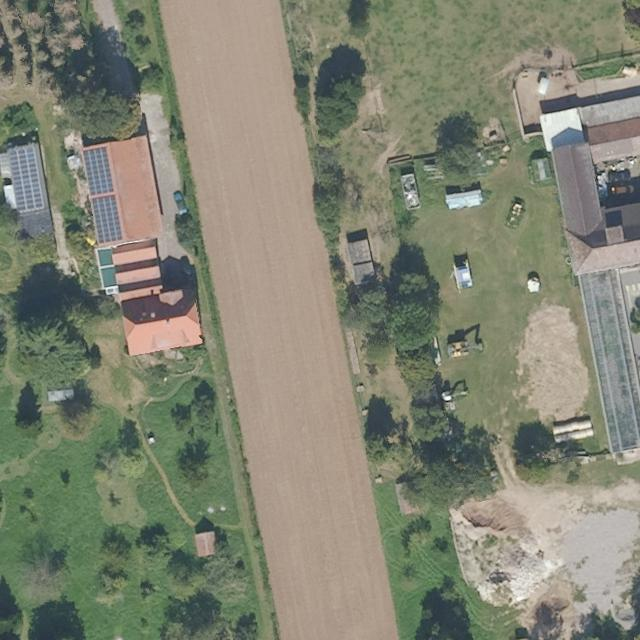PV: (6, 143, 47, 215), (80, 145, 115, 196), (90, 193, 124, 244)
